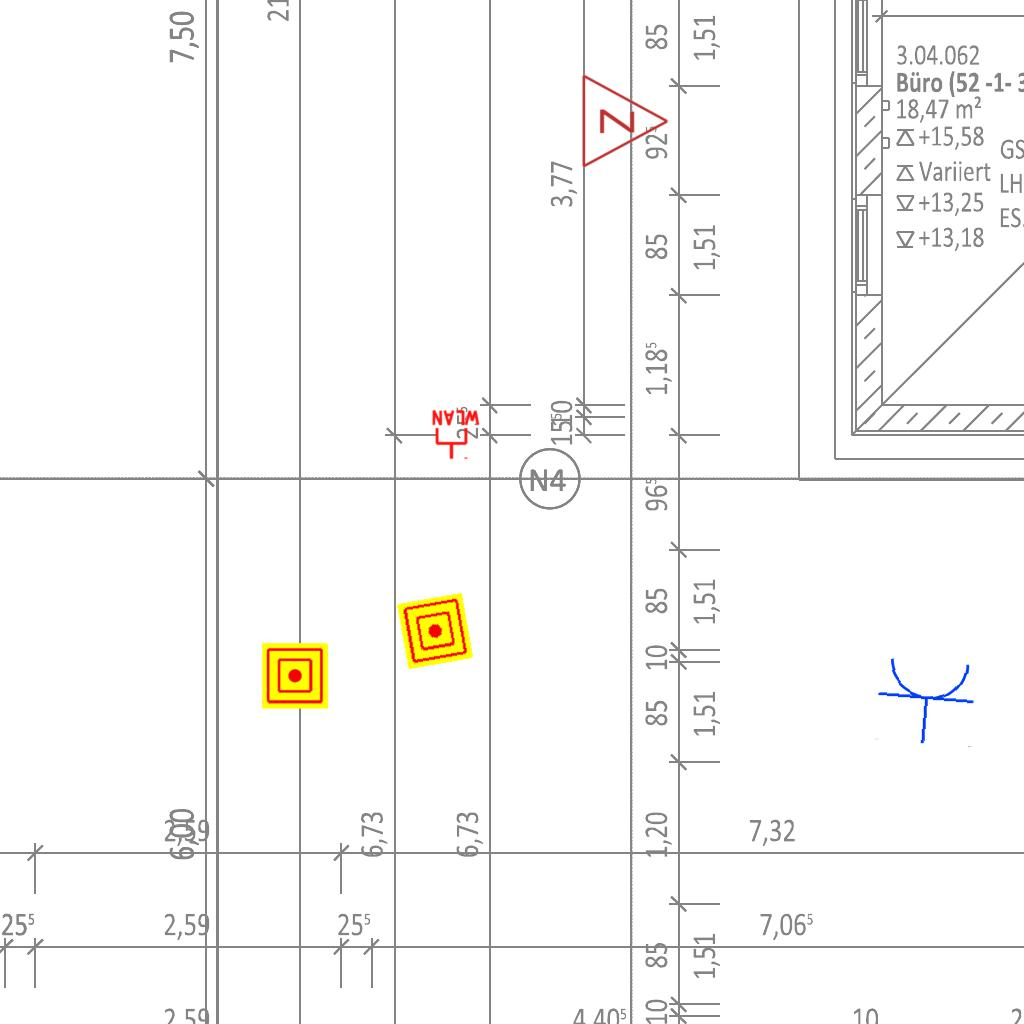NAM-Nichtautomatischer_Melder: (396, 592, 474, 670), (262, 643, 328, 709)
Schukosteckdose_einfach: (873, 652, 981, 749)
WLAN: (430, 409, 482, 461)
Zimmersignalleuchte: (575, 71, 675, 169)
